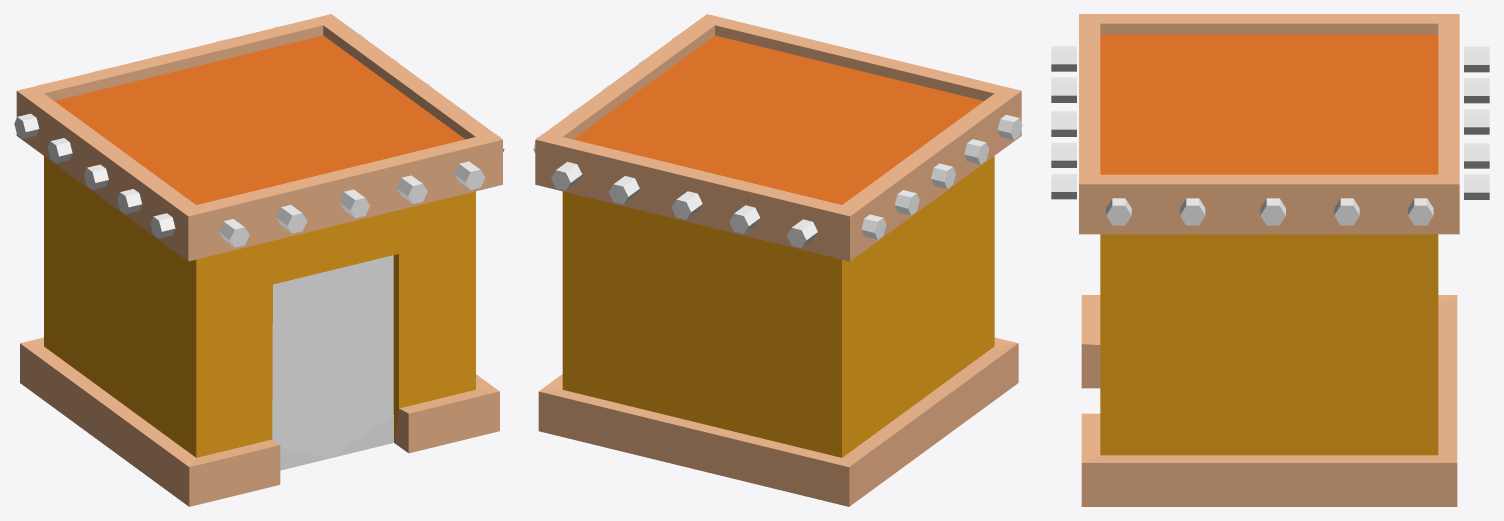
The model's file is DesertCastle.glb.
3 renders of one model, left to right at view 1: azimuth 30°, elevation 25°; view 2: azimuth 150°, elevation 25°; view 3: azimuth 270°, elevation 25°, orthographic. The views are drawn at different scales.
Visible parts, largest first — view 1: DesertCastle; view 2: DesertCastle; view 3: DesertCastle.
Boxes of the visible parts, left/top/right/bottom form: DesertCastle: left=14, top=14, right=504, bottom=506; DesertCastle: left=533, top=14, right=1022, bottom=506; DesertCastle: left=1051, top=14, right=1489, bottom=506.
Size of the model in its own units: 6.53 by 5.33 by 6.53.
Materials: 1 (1 with a texture image).
